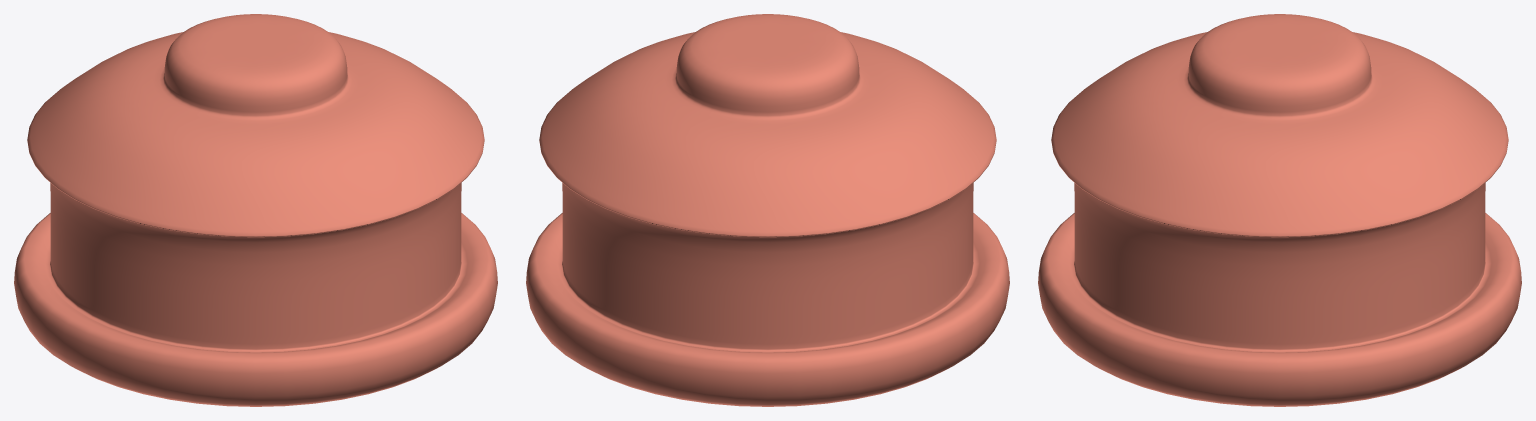
Rendered from Suckers3.fbx.
The picture shows the model from 3 angles, left to right: view 1: azimuth 30°, elevation 25°; view 2: azimuth 150°, elevation 25°; view 3: azimuth 270°, elevation 25°; orthographic projection.
Visible parts, largest first — view 1: Cylinder.001; view 2: Cylinder.001; view 3: Cylinder.001.
Boxes of the visible parts, bbox=[...] form: Cylinder.001: bbox=[14, 14, 497, 406]; Cylinder.001: bbox=[526, 14, 1009, 406]; Cylinder.001: bbox=[1038, 14, 1521, 406].
Size of the model in its own units: 189 by 116 by 189.
